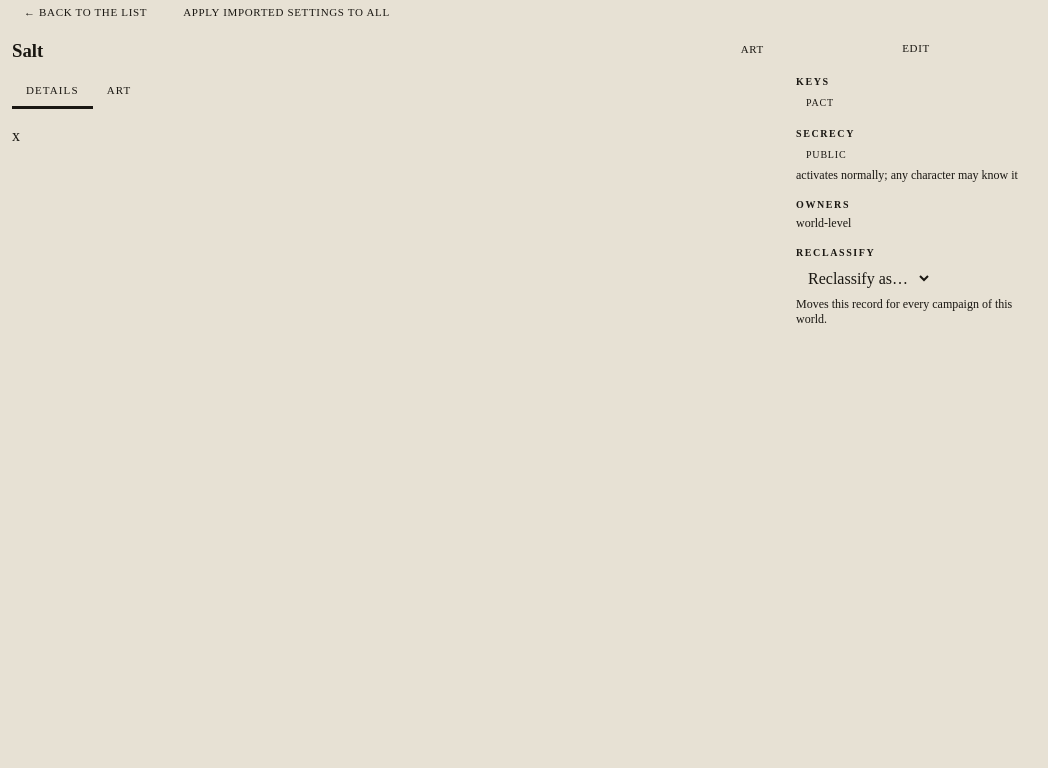
it: a failure that is not a conflict still reaches the error banner
Click the button "Edit" at {"x": 916, "y": 48}, box [796,36,1036,60]
(page scrolled)
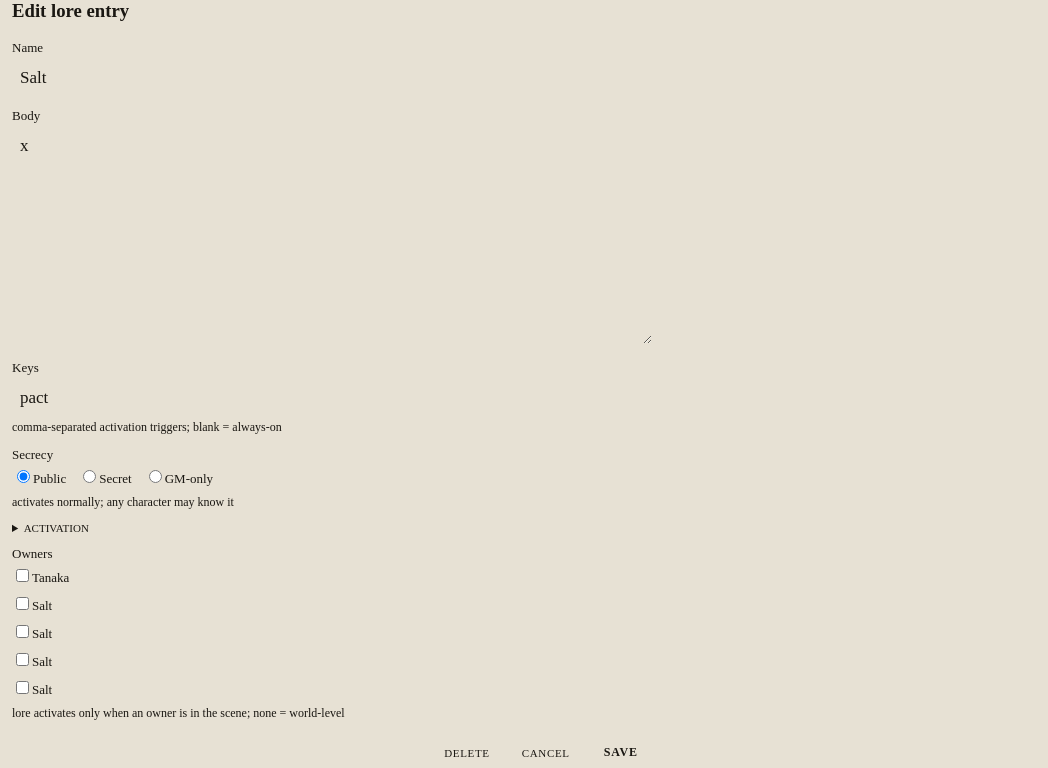
Click the button "Save" at {"x": 621, "y": 753}, box [590,737,652,767]
(page scrolled)
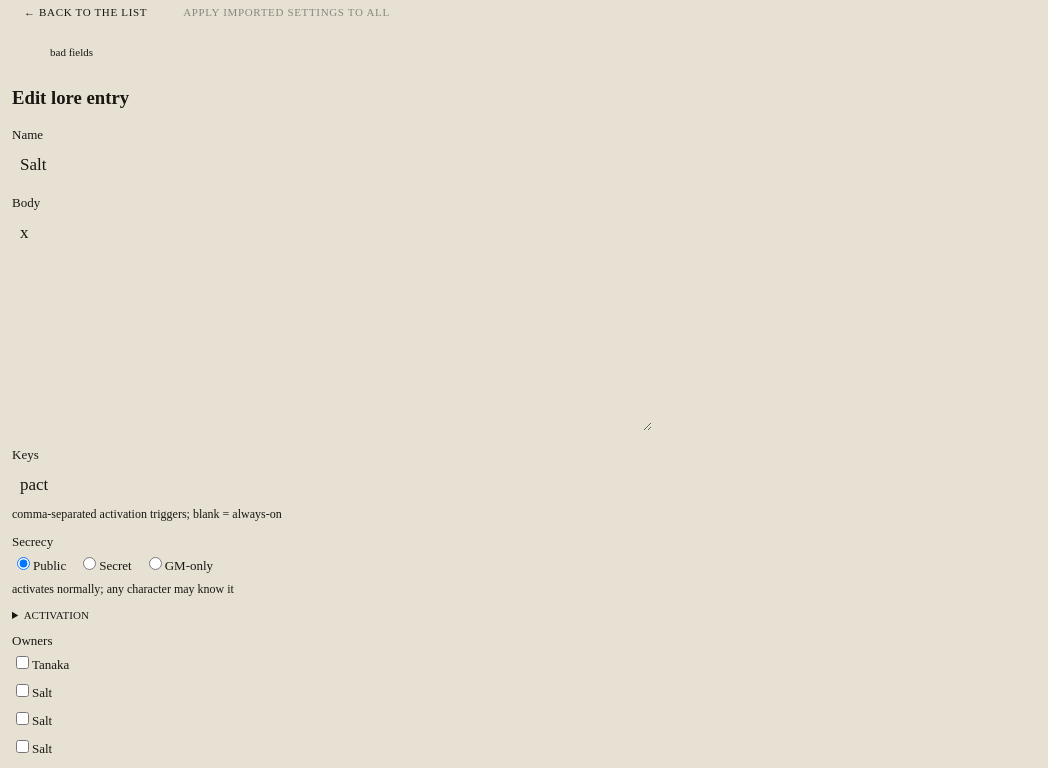
expect the text "bad fields" is shown: met, box [50,46,93,58]
